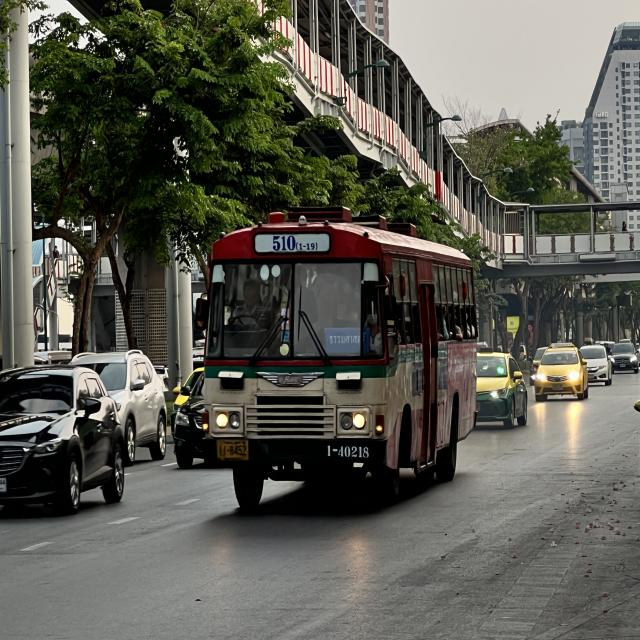BMTA-bus: (196, 202, 479, 513)
Bus-Line-Number: (264, 234, 322, 254)
Destination-Sign-Normal: (326, 327, 371, 355)
